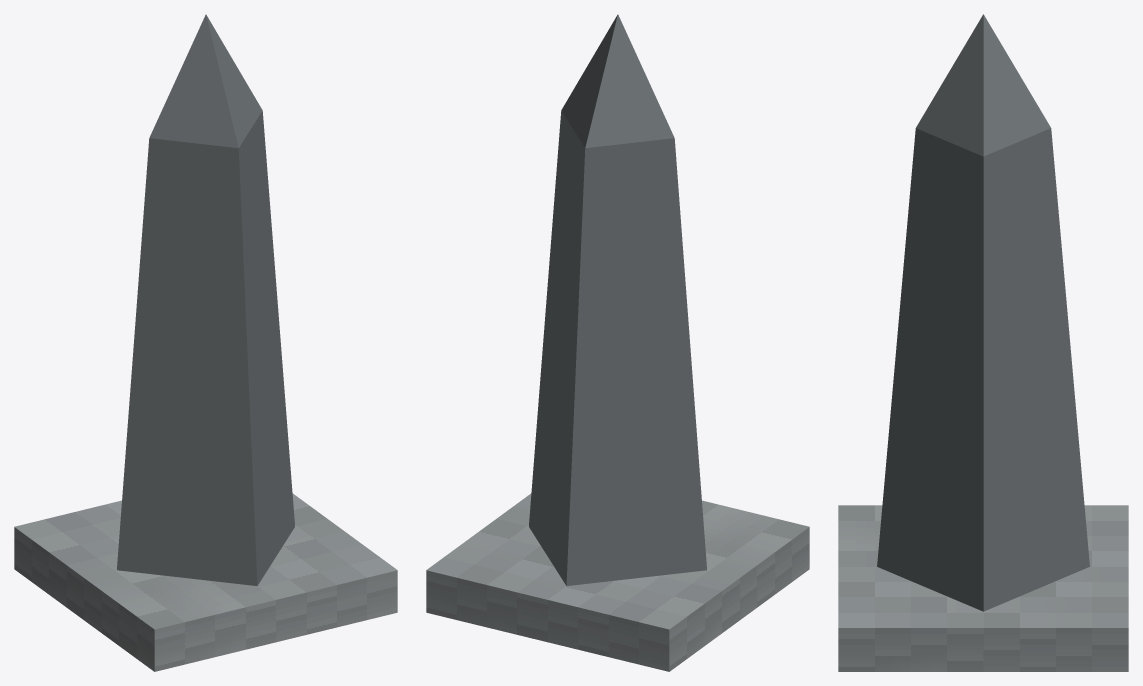
File: dungeon-room-builder-obelisk-6080dd0c__25851.glb
The picture shows the model from 3 angles, left to right: view 1: azimuth 30°, elevation 25°; view 2: azimuth 150°, elevation 25°; view 3: azimuth 270°, elevation 25°; orthographic projection. The views are drawn at different scales.
Parts seen in each view (by area): view 1: obelisk; view 2: obelisk; view 3: obelisk.
Boxes of the visible parts, x1,y1,x2,y2 form: obelisk: [14, 14, 397, 671]; obelisk: [426, 14, 809, 671]; obelisk: [838, 14, 1128, 671].
Size of the model in its own units: 1.5 by 3.4 by 1.5.
Materials: 2 (1 with a texture image).
